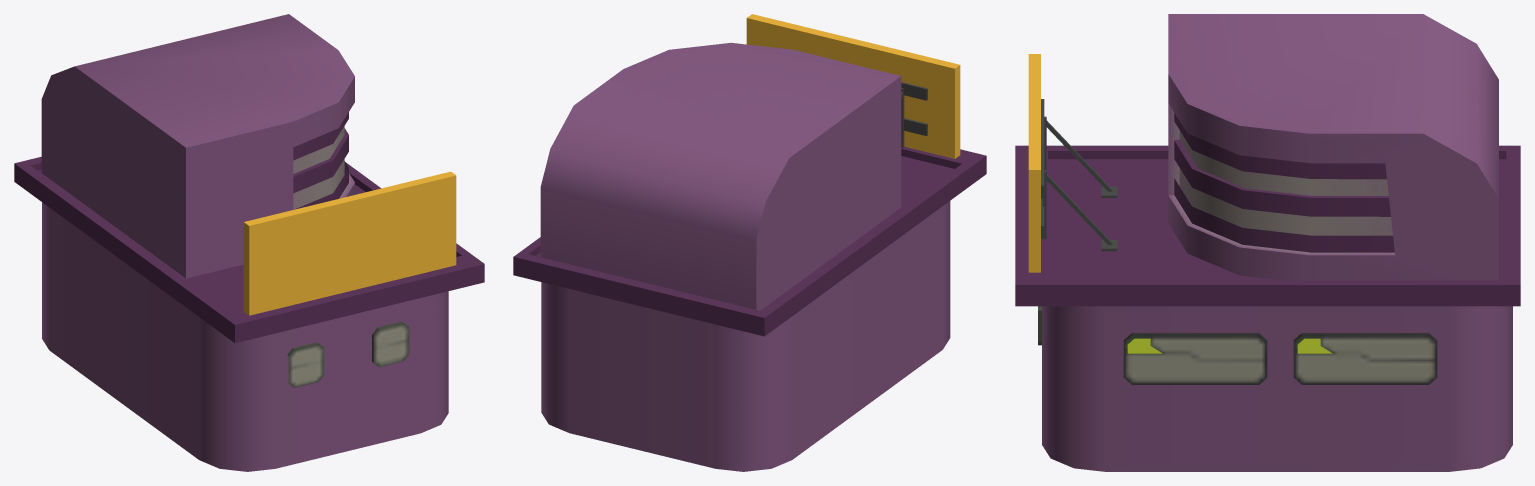
Rendered from SouthEast_House_07.fbx.
3 renders of one model, left to right at view 1: azimuth 30°, elevation 25°; view 2: azimuth 150°, elevation 25°; view 3: azimuth 270°, elevation 25°, orthographic. The views are drawn at different scales.
Visible parts, largest first — view 1: SouthEast_House_07; view 2: SouthEast_House_07; view 3: SouthEast_House_07.
Part boxes in pixels (x1,y1,x2,y2): SouthEast_House_07: [14, 14, 484, 471]; SouthEast_House_07: [513, 14, 986, 471]; SouthEast_House_07: [1015, 14, 1520, 471].
Bounding box in the file's own units: 18.33 × 20.25 × 28.05.
Materials: 2 (2 with a texture image).
